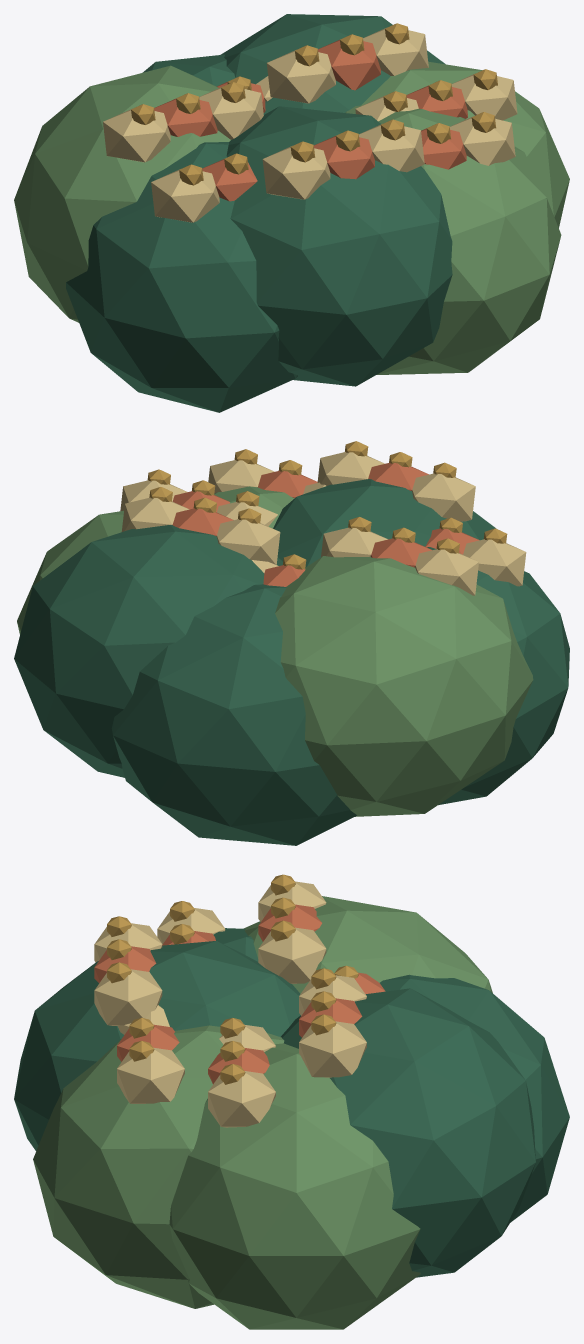
File: PirateCove_FlowerBush_Showcase.glb
3 views of the same model, one above another, from view 1: azimuth 30°, elevation 25°; view 2: azimuth 150°, elevation 25°; view 3: azimuth 270°, elevation 25° (orthographic). The views are drawn at different scales.
Parts seen in each view (by area): view 1: PirateCove_FlowerBush_Showcase; view 2: PirateCove_FlowerBush_Showcase; view 3: PirateCove_FlowerBush_Showcase.
Part boxes in pixels (x1=…): PirateCove_FlowerBush_Showcase: x1=14, y1=14, x2=569, y2=412; PirateCove_FlowerBush_Showcase: x1=14, y1=441, x2=569, y2=845; PirateCove_FlowerBush_Showcase: x1=14, y1=874, x2=569, y2=1329.
Bounding box in the file's own units: 1.66 × 0.92 × 1.53.
